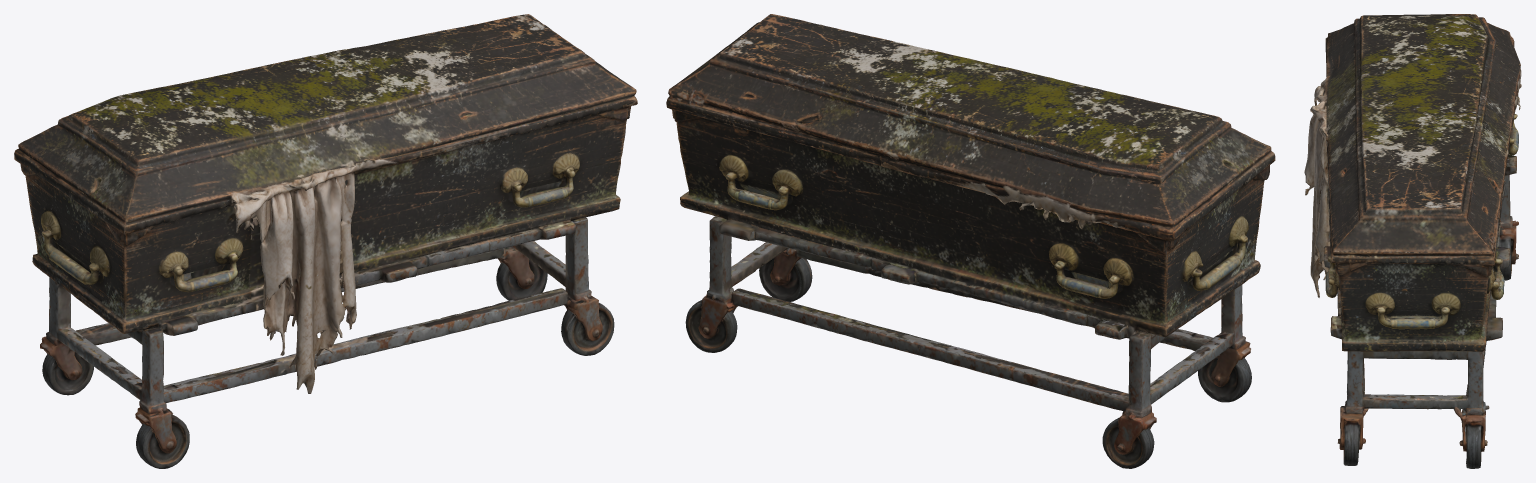
The model's file is Coffin.fbx.
3 renders of one model, left to right at view 1: azimuth 30°, elevation 25°; view 2: azimuth 150°, elevation 25°; view 3: azimuth 270°, elevation 25°, orthographic. The views are drawn at different scales.
Visible parts, largest first — view 1: texture_mapping; view 2: texture_mapping; view 3: texture_mapping.
Part boxes in pixels (x1,y1,x2,y2): texture_mapping: [14, 14, 637, 468]; texture_mapping: [666, 14, 1275, 468]; texture_mapping: [1304, 14, 1521, 468].
Size of the model in its own units: 1 by 0.413 by 0.5578.
Materials: 1 (1 with a texture image).
